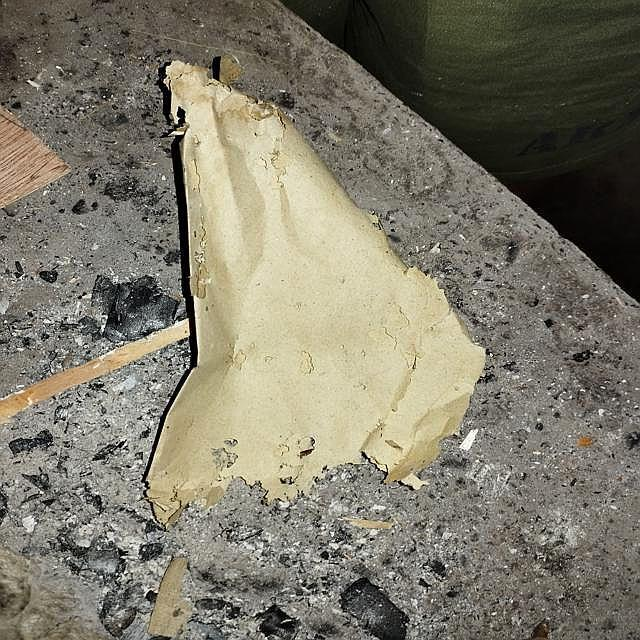Biodegradable: (145, 70, 485, 507)
